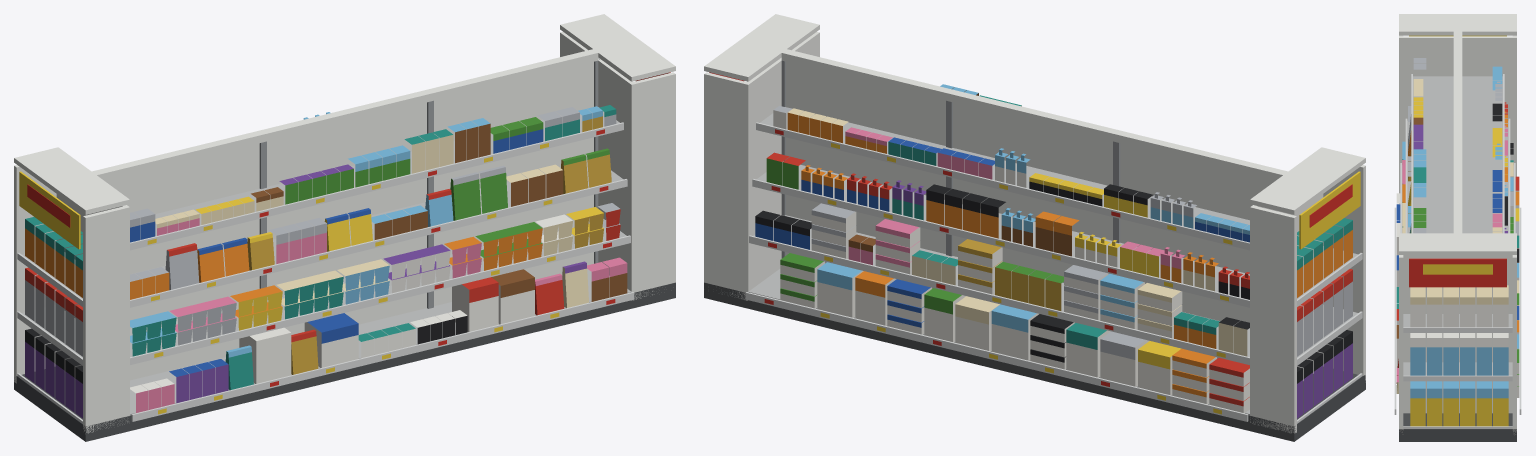
The model's file is conbini_shelf.glb.
The picture shows the model from 3 angles, left to right: view 1: azimuth 30°, elevation 25°; view 2: azimuth 150°, elevation 25°; view 3: azimuth 270°, elevation 25°; orthographic projection. The views are drawn at different scales.
Visible parts, largest first — view 1: gondola; view 2: gondola; view 3: gondola.
Boxes of the visible parts, x1,y1,x2,y2 form: gondola: [14, 14, 675, 441]; gondola: [704, 14, 1365, 441]; gondola: [1394, 14, 1521, 441].
Bounding box in the file's own units: 4.02 × 1.5 × 0.907.
